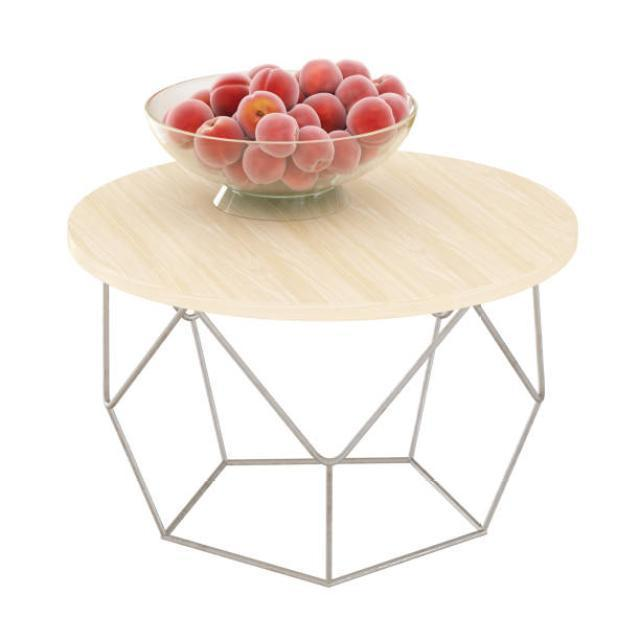table: (66, 148, 578, 586)
